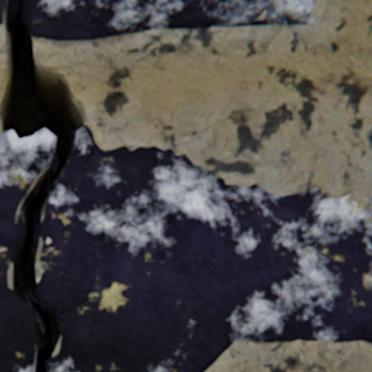broken_brick: (35, 126, 371, 371), (0, 129, 56, 371), (29, 0, 312, 41), (0, 0, 6, 26)
crack: (0, 0, 84, 371)
